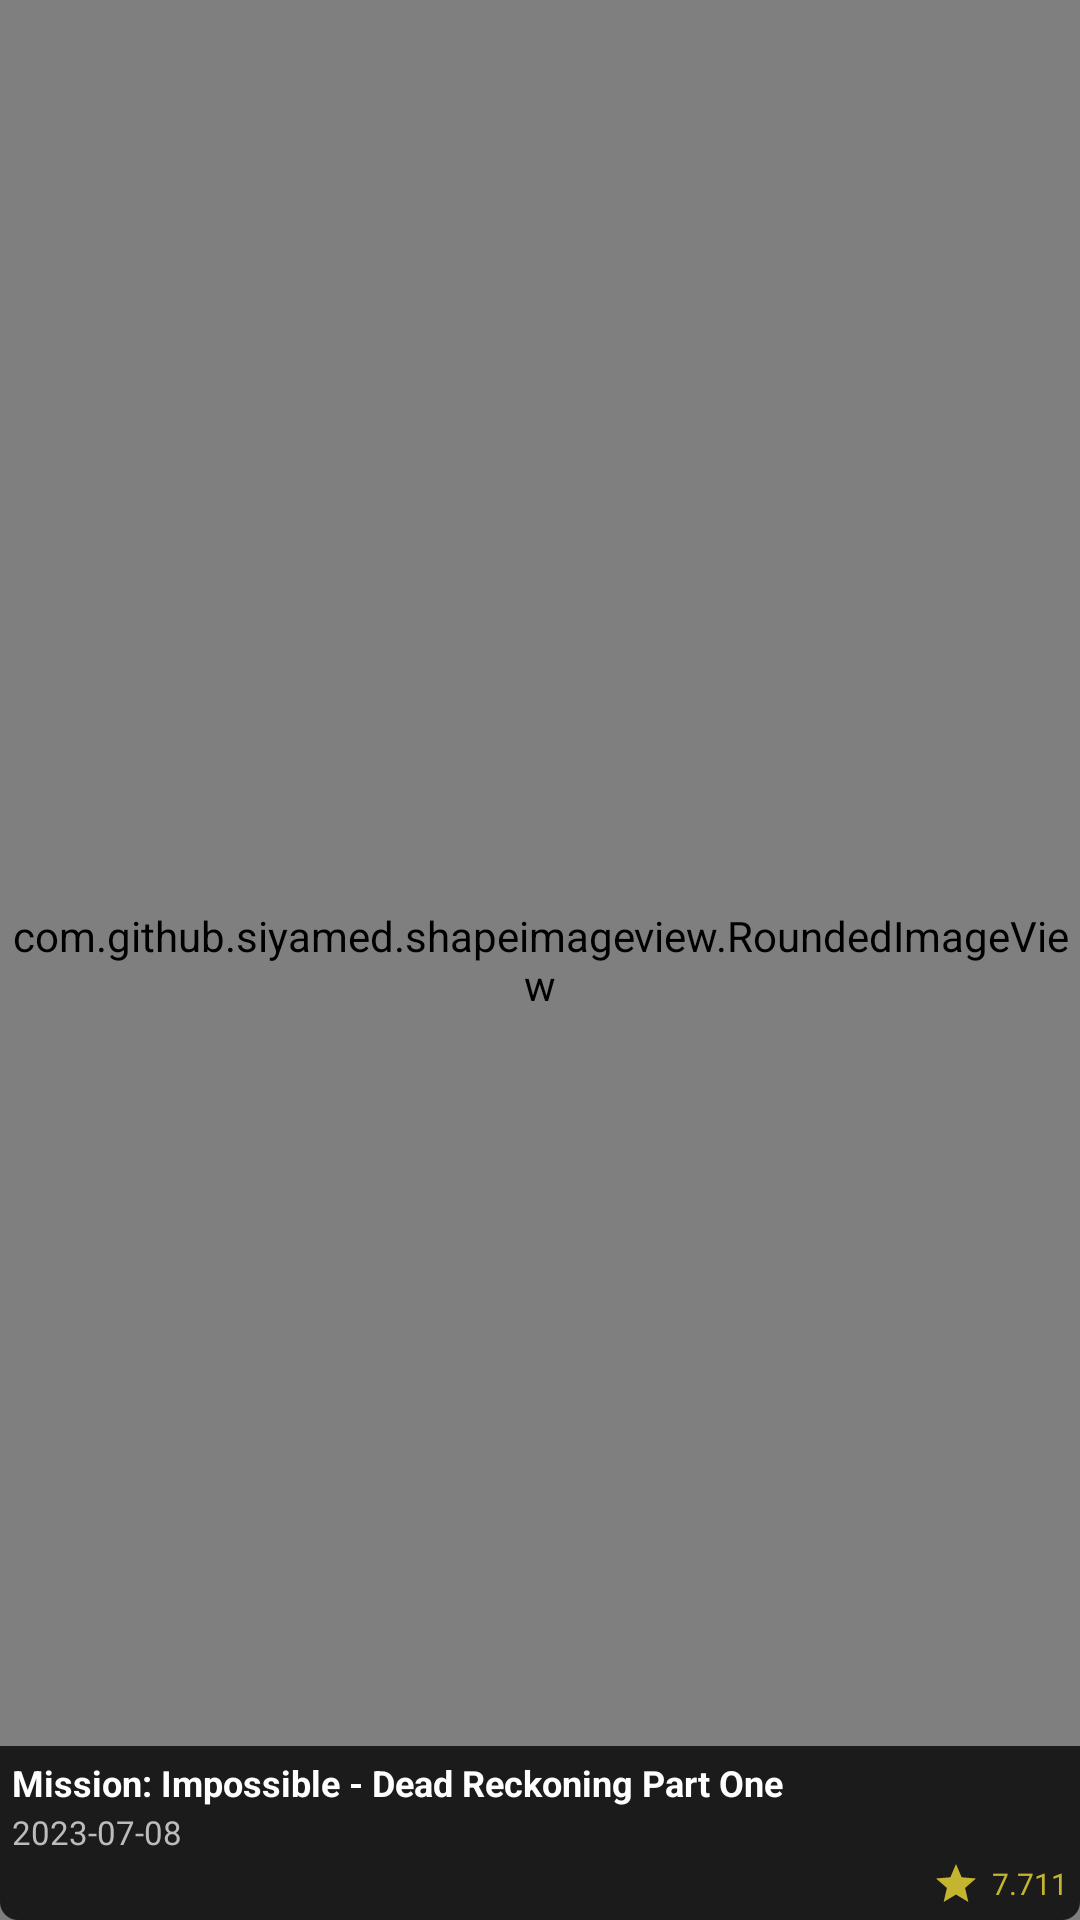

Where to tap for icons on this 1080*1920 app screen, as [x,y]:
item main movie rating: [956,1883]
